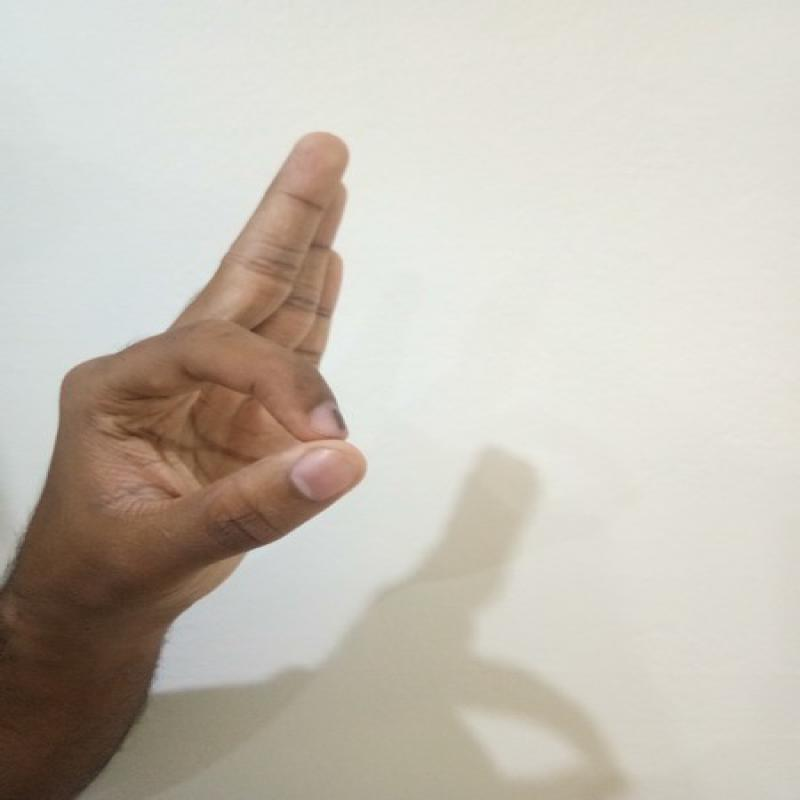Mudraakhyam: (33, 111, 385, 639)
